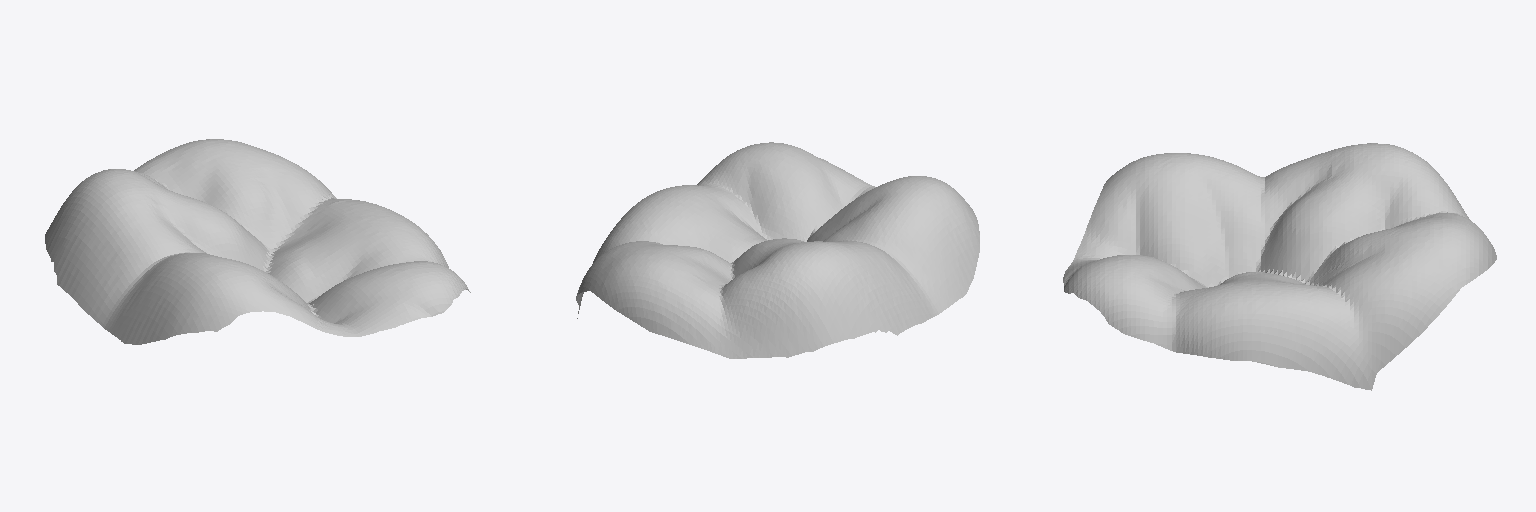
Rendered from test_right_0.obj.
3 renders of one model, left to right at view 1: azimuth 30°, elevation 25°; view 2: azimuth 150°, elevation 25°; view 3: azimuth 270°, elevation 25°, orthographic.
Visible parts, largest first — view 1: LowerHalfRight.001_LowerHalfRight.003; view 2: LowerHalfRight.001_LowerHalfRight.003; view 3: LowerHalfRight.001_LowerHalfRight.003.
Part boxes in pixels (left/top/right/bottom): LowerHalfRight.001_LowerHalfRight.003: left=45, top=139, right=470, bottom=344; LowerHalfRight.001_LowerHalfRight.003: left=576, top=142, right=979, bottom=358; LowerHalfRight.001_LowerHalfRight.003: left=1063, top=143, right=1496, bottom=390.
Size of the model in its own units: 8.51 by 3.18 by 9.73.